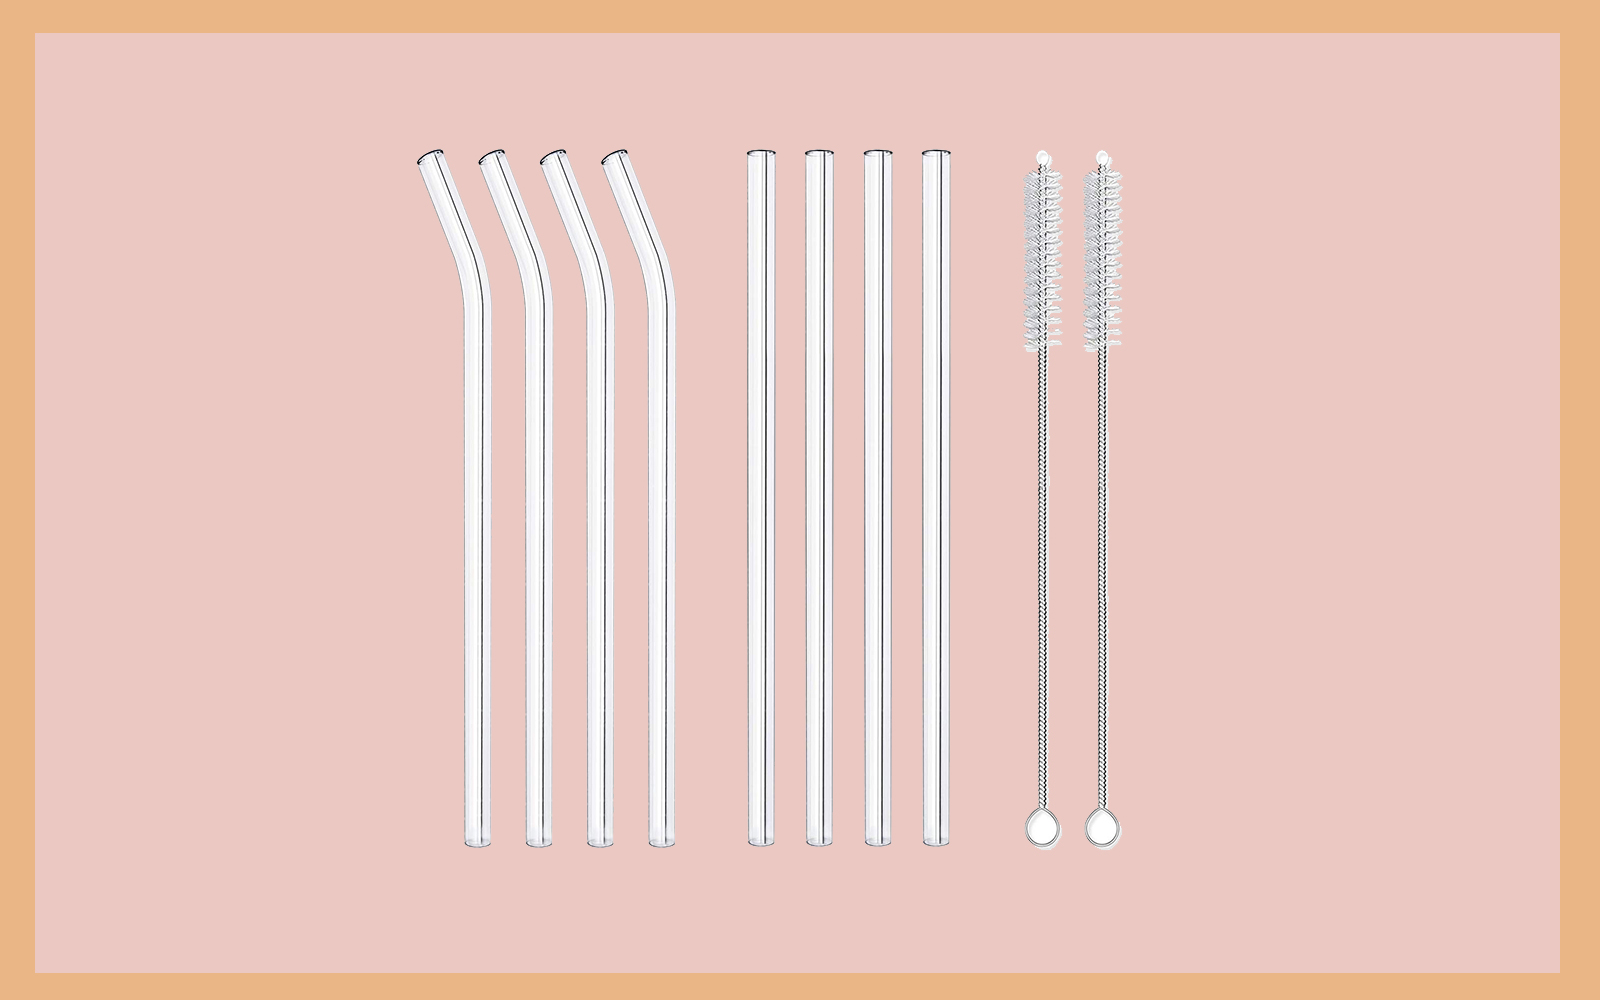Drinking Straw: (741, 143, 784, 851)
